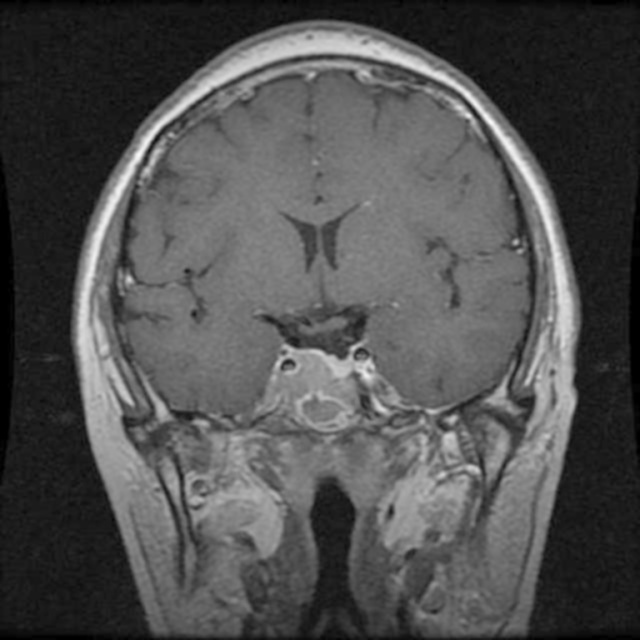no tumor: (273, 347, 365, 422)
